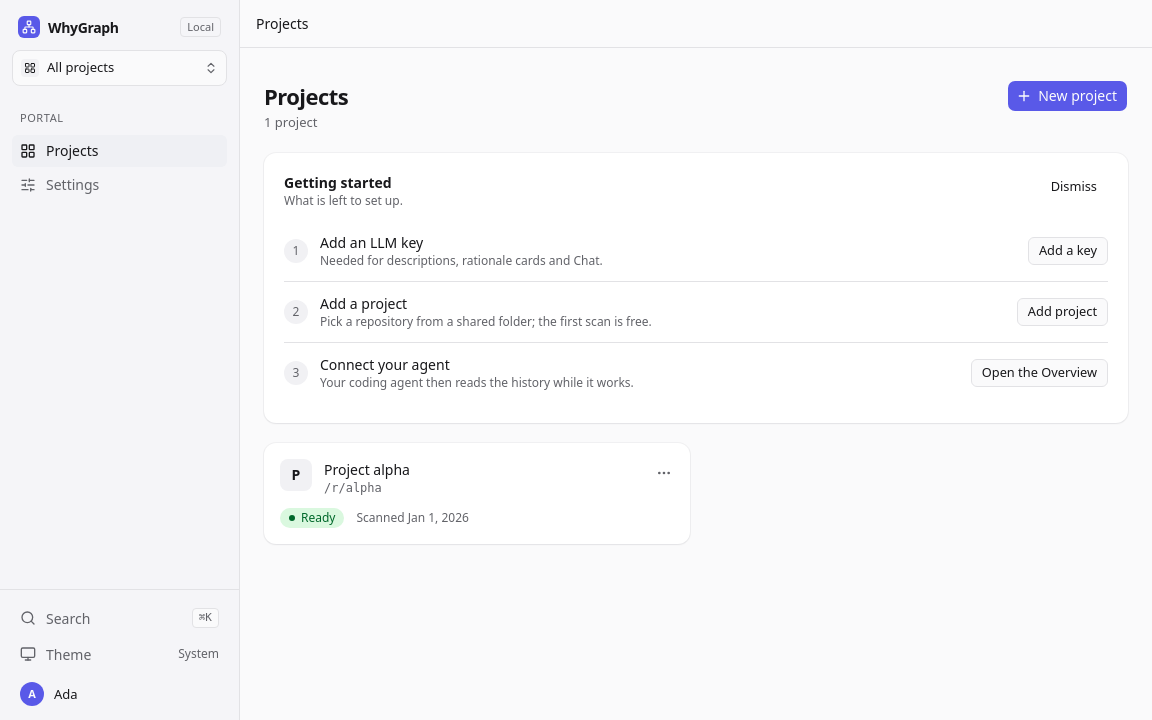
Test case: FirstRunChecklist - local › is dismissed per browser, and the header link brings it back
Expected: the element with test id "first-run-checklist" is shown, [264,152,1128,422]
Click the button "Dismiss". click: {"x": 1074, "y": 186}
box: [1040,172,1108,200]
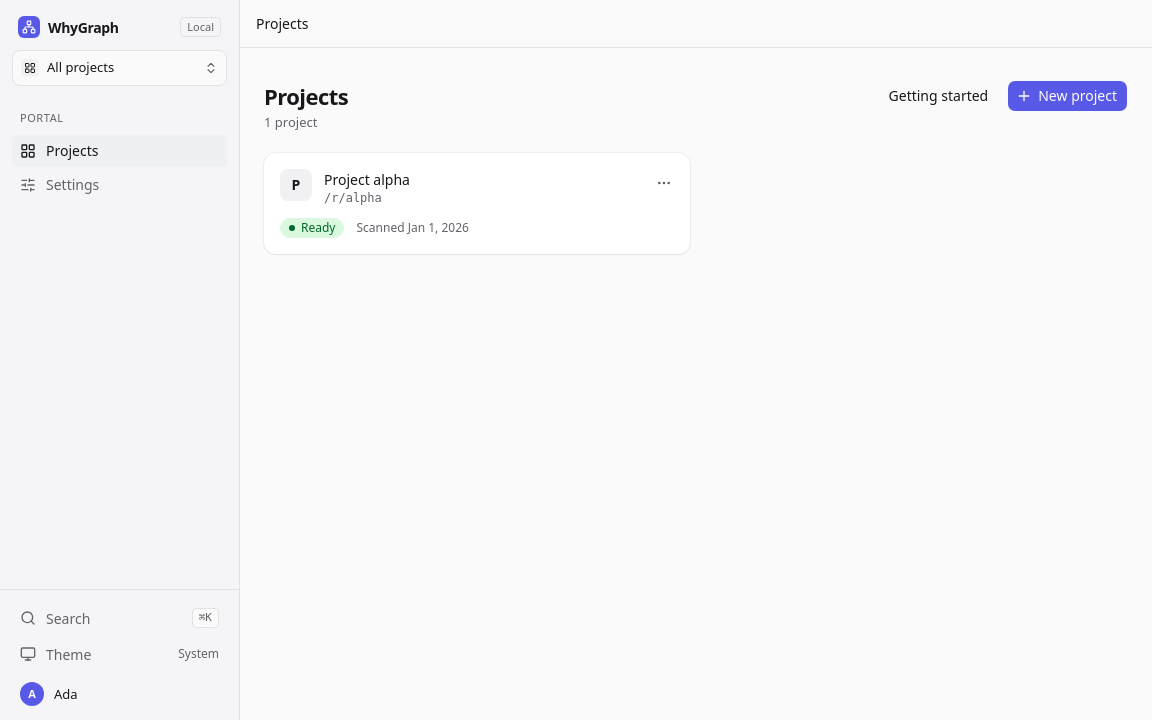
Expected: the element with test id "first-run-checklist" is gone
Click the button with test id "getting-started-link". click: {"x": 938, "y": 96}
box: [878,80,999,112]
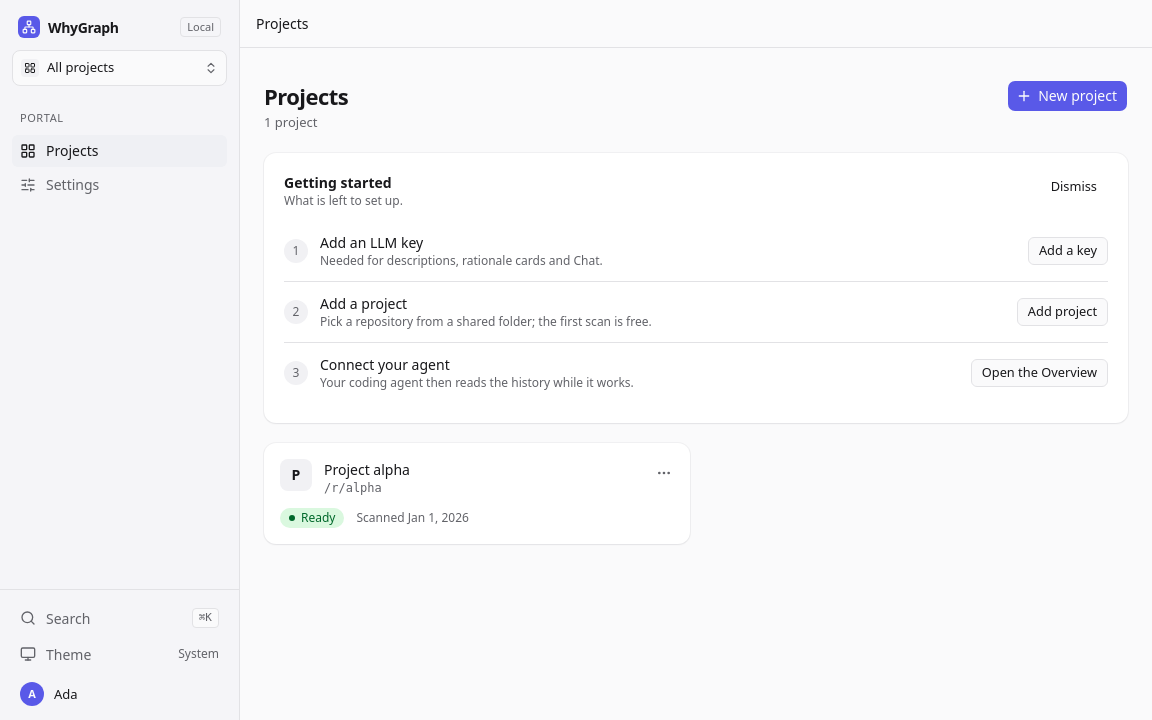
Expected: the element with test id "first-run-checklist" is shown, [264,152,1128,422]
